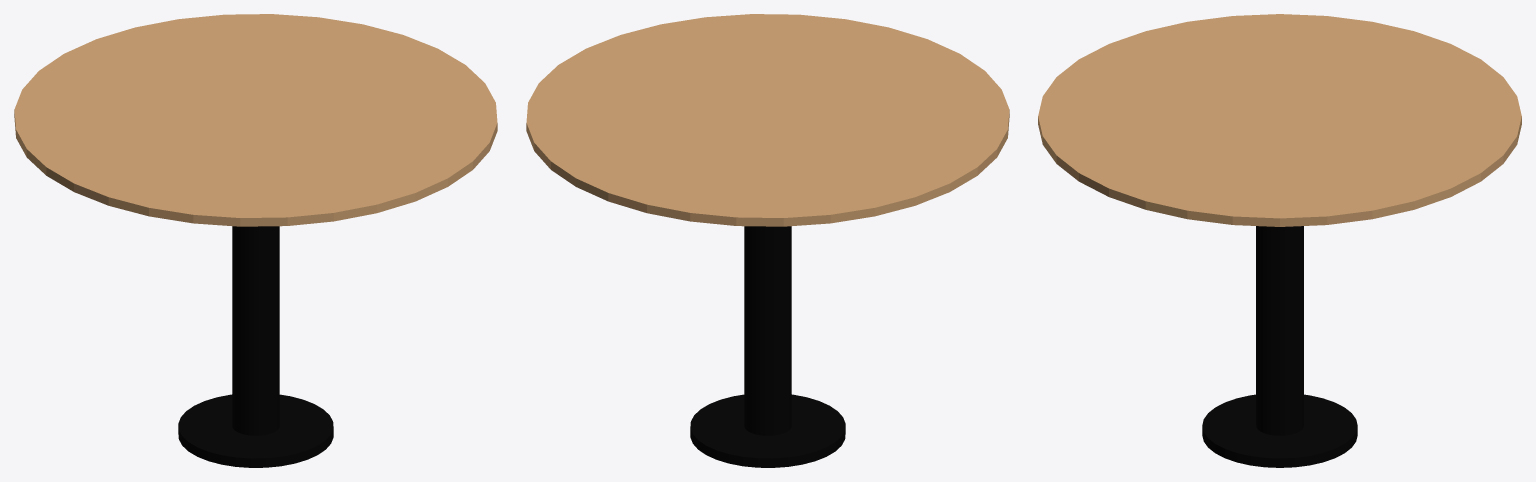
File: table.fbx
The picture shows the model from 3 angles, left to right: view 1: azimuth 30°, elevation 25°; view 2: azimuth 150°, elevation 25°; view 3: azimuth 270°, elevation 25°; orthographic projection.
Parts seen in each view (by area): view 1: Cylinder; view 2: Cylinder; view 3: Cylinder.
Part boxes in pixels (x1,y1,x2,y2): Cylinder: (14,14,497,467); Cylinder: (526,14,1009,467); Cylinder: (1038,14,1521,467).
Bounding box in the file's own units: 644 × 468 × 644.
Materials: 1 (1 with a texture image).
